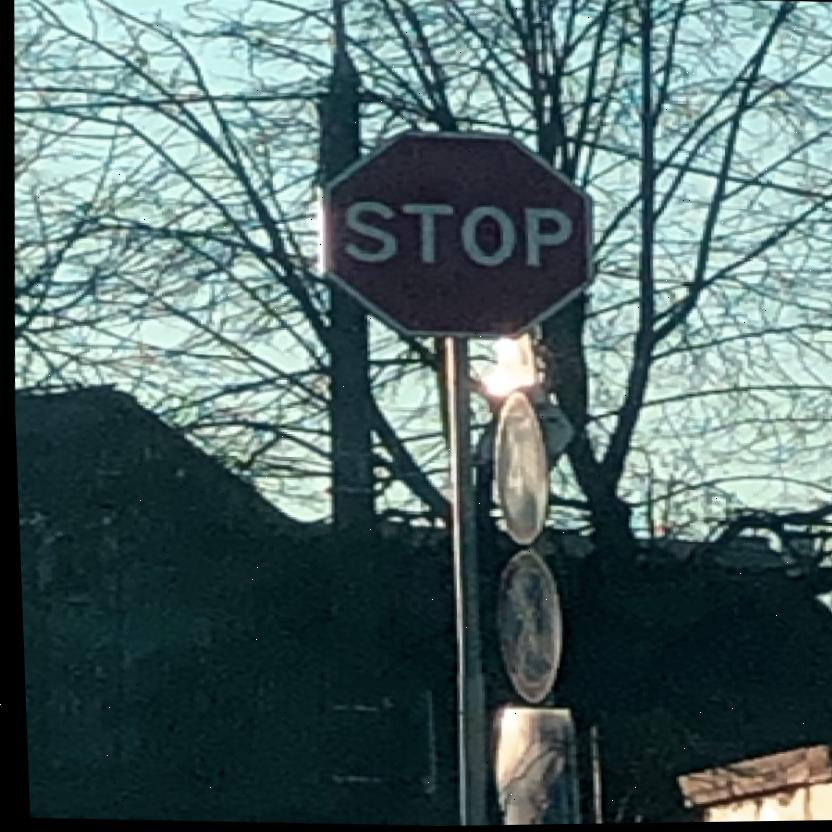Pole: (425, 332, 499, 827)
Sign: (312, 127, 599, 342)
